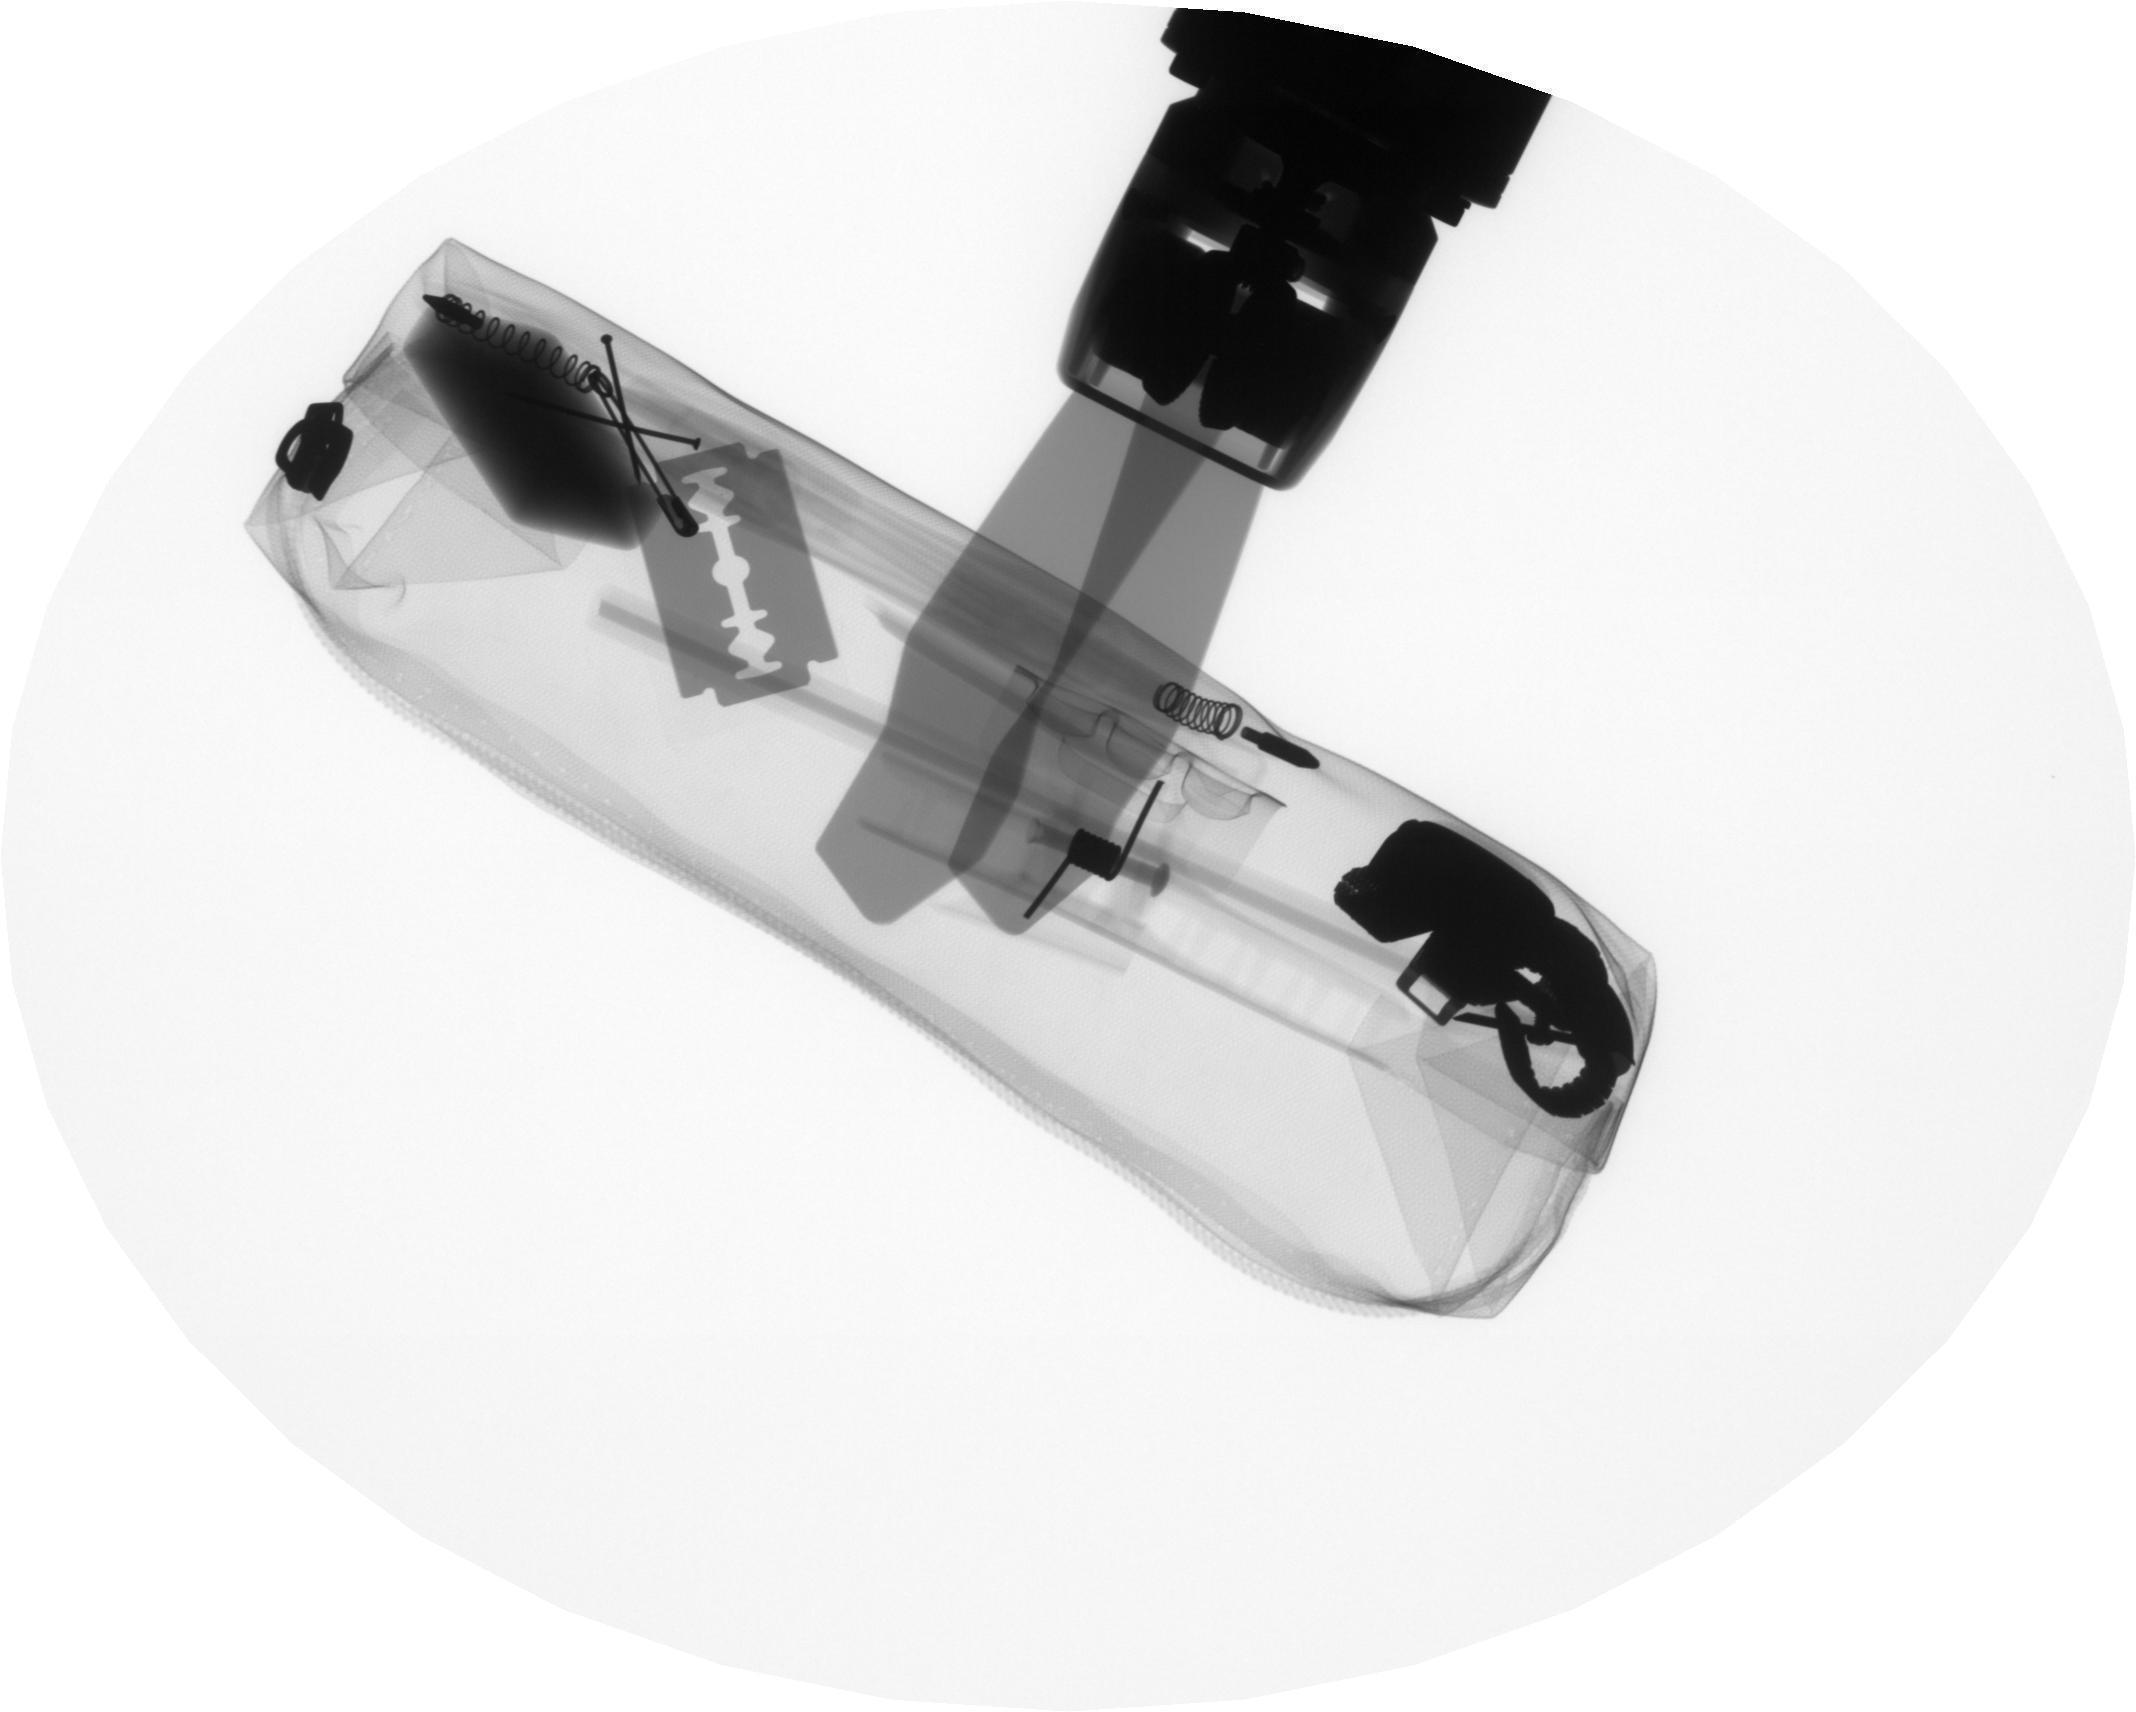RazorBlade: (625, 437, 845, 711)
